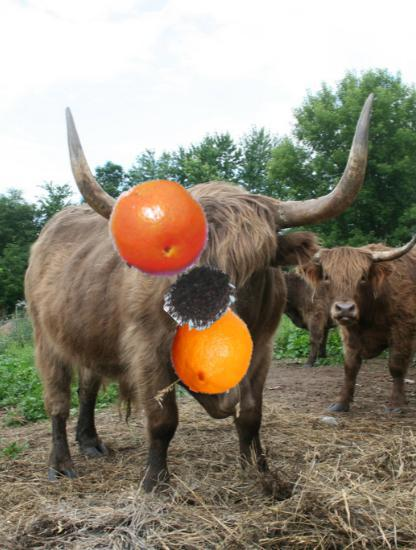Lemon: (166, 304, 257, 395)
Rambutan: (167, 263, 237, 333)
Tangelo: (107, 178, 209, 280)
